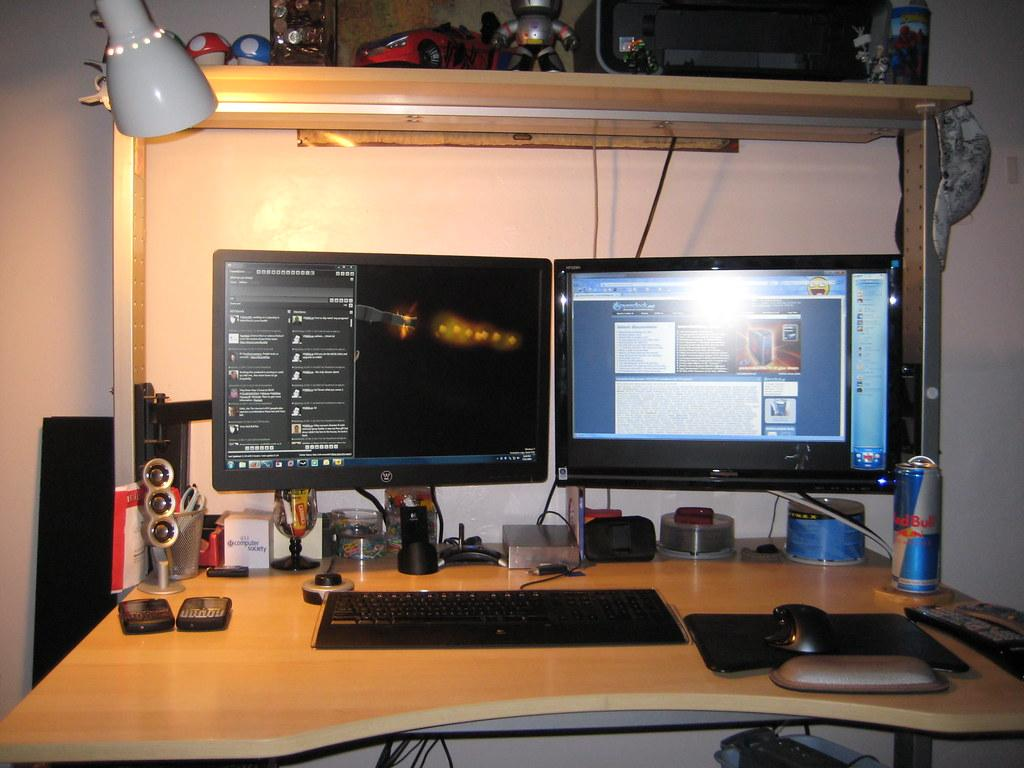computer: (211, 248, 553, 580), (553, 253, 904, 565)
